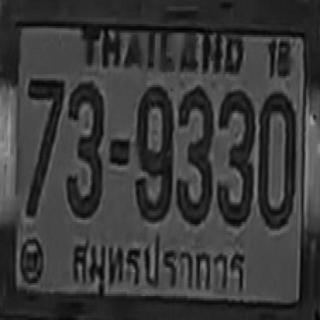N00: (258, 90, 296, 228)
N03: (65, 80, 104, 218), (175, 85, 213, 224), (217, 89, 254, 226)
N07: (25, 76, 65, 215)
N09: (135, 83, 173, 220)
P57: (68, 236, 250, 308)
